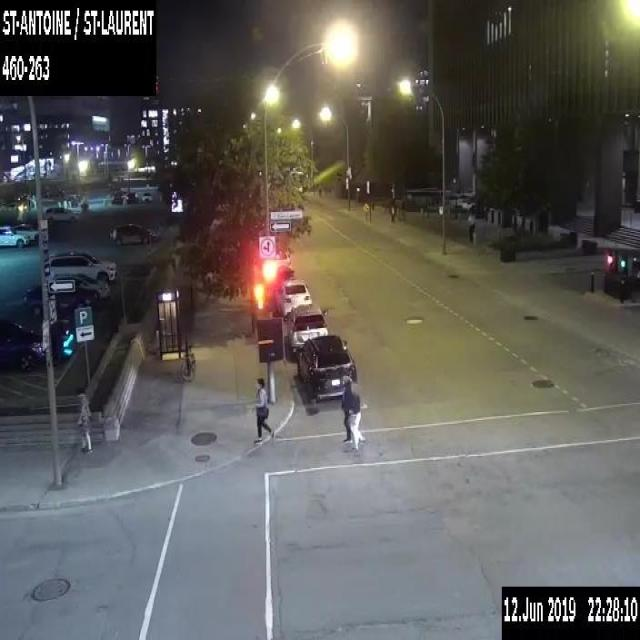pedestrian: (252, 376, 274, 444), (346, 379, 364, 450), (75, 392, 94, 453), (340, 373, 352, 442), (389, 199, 396, 223), (363, 200, 369, 224)
vehicle: (296, 332, 356, 404), (0, 316, 45, 371), (22, 283, 99, 315), (286, 303, 329, 357), (48, 250, 116, 282), (48, 272, 110, 302), (275, 277, 312, 320), (109, 222, 158, 246), (272, 264, 294, 297), (0, 225, 30, 247), (44, 205, 79, 222), (12, 222, 38, 242), (274, 250, 291, 268), (112, 189, 125, 203), (125, 191, 138, 203), (141, 191, 151, 201)
